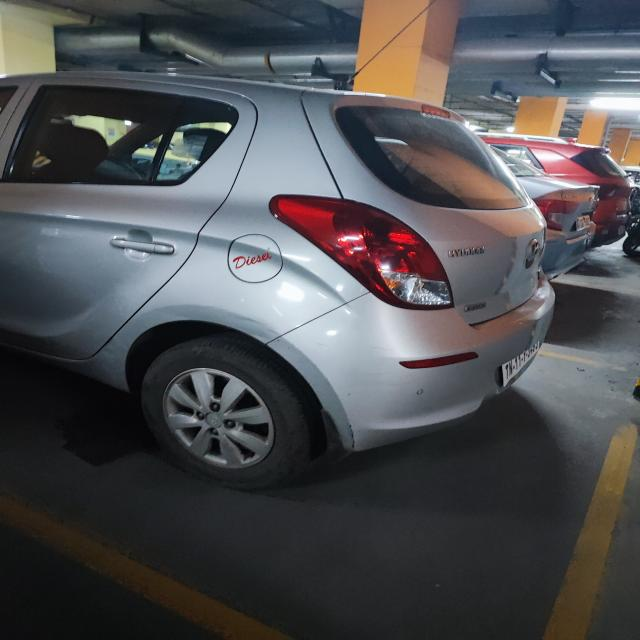scratch: (235, 316, 301, 344)
